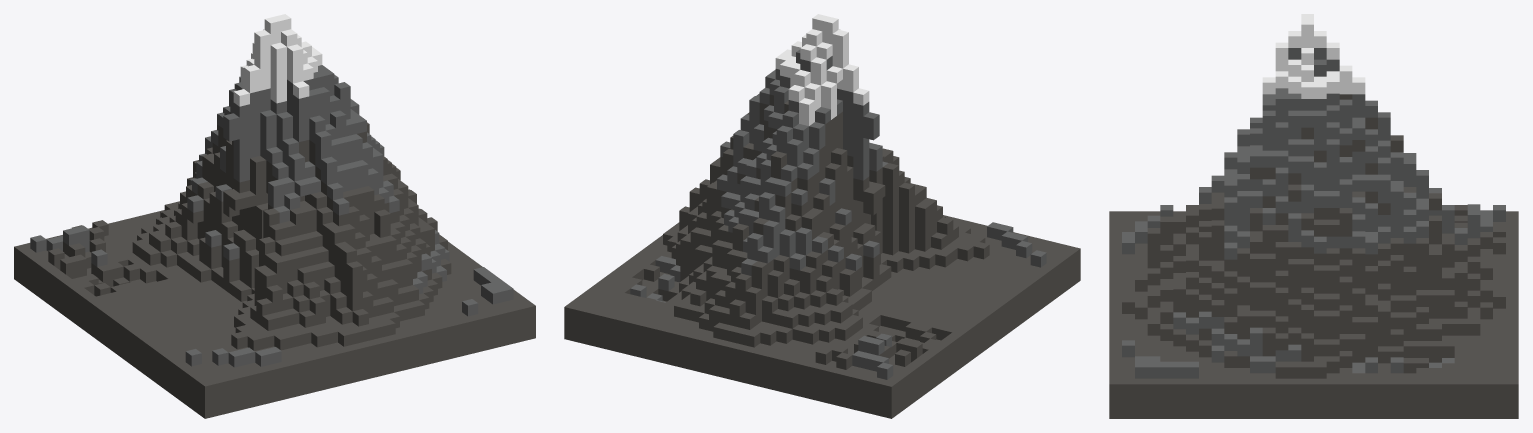
The model's file is mountain.gltf.
3 renders of one model, left to right at view 1: azimuth 30°, elevation 25°; view 2: azimuth 150°, elevation 25°; view 3: azimuth 270°, elevation 25°, orthographic. The views are drawn at different scales.
Parts seen in each view (by area): view 1: Layer.1, ground; view 2: Layer.1, ground; view 3: Layer.1, ground.
Boxes of the visible parts, x1,y1,x2,y2 form: Layer.1: (30, 14, 513, 367); ground: (14, 175, 535, 418); Layer.1: (663, 14, 1046, 379); ground: (564, 167, 1080, 418); Layer.1: (1122, 14, 1505, 378); ground: (1109, 211, 1518, 418).
Size of the model in its own units: 32 by 27 by 32.
1 material, 1 textured.
